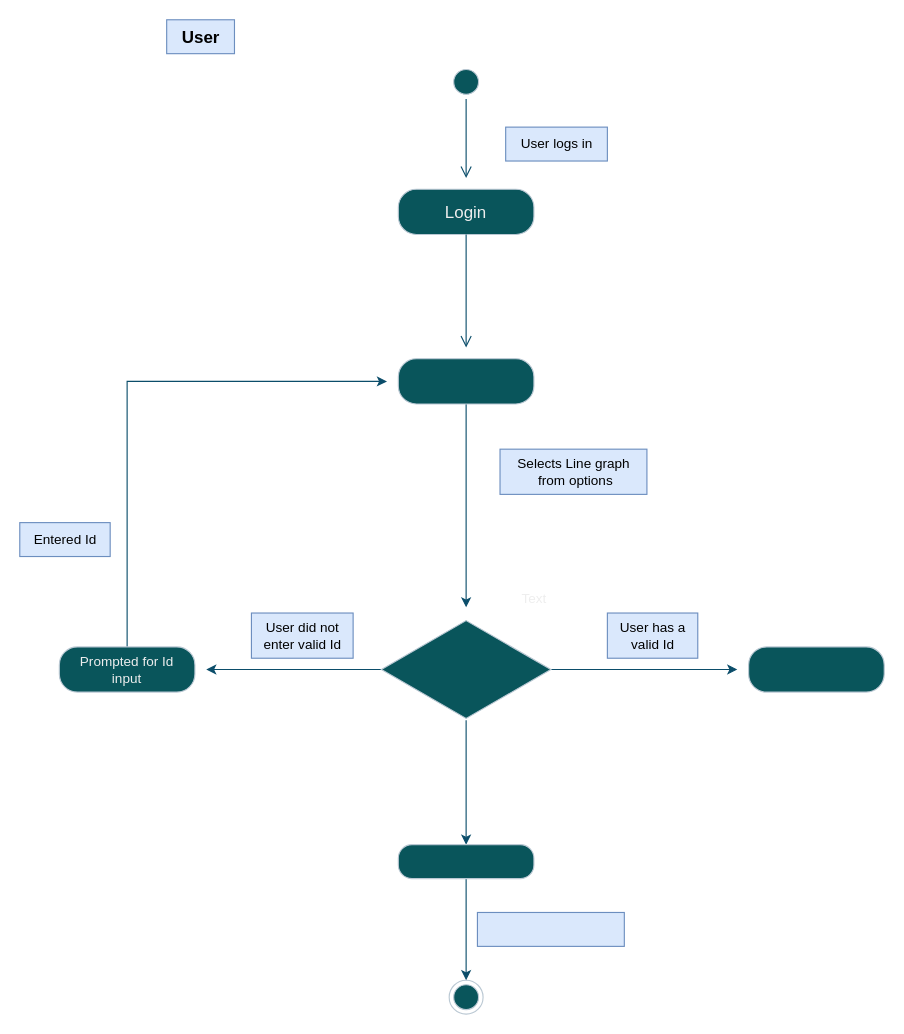
Some shapes in this 904 by 1034 pixel diagram are drawn without their labels. The shapes that lost their labels are listed below. From the top down, each one's box as (x1, y1, x2, y2) in pixels, then its label:
(397, 358, 534, 404): Home
(747, 646, 884, 692): Display userId
(397, 844, 534, 879): Profile
(476, 911, 624, 946): Clicks logout button
